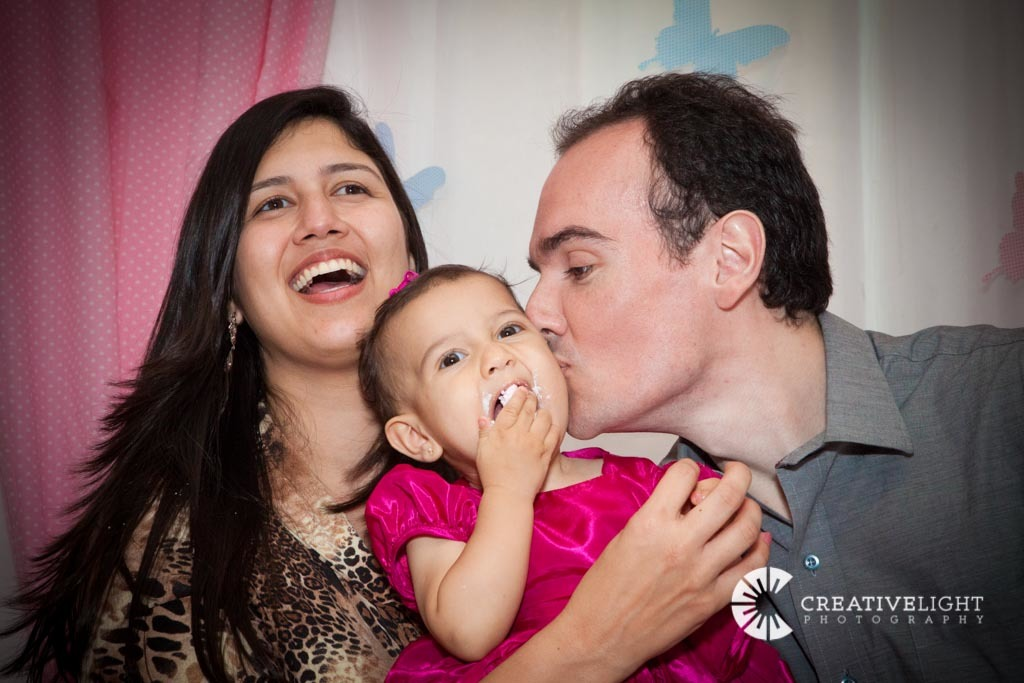Human_hand: (592, 452, 781, 650), (475, 384, 559, 502)
